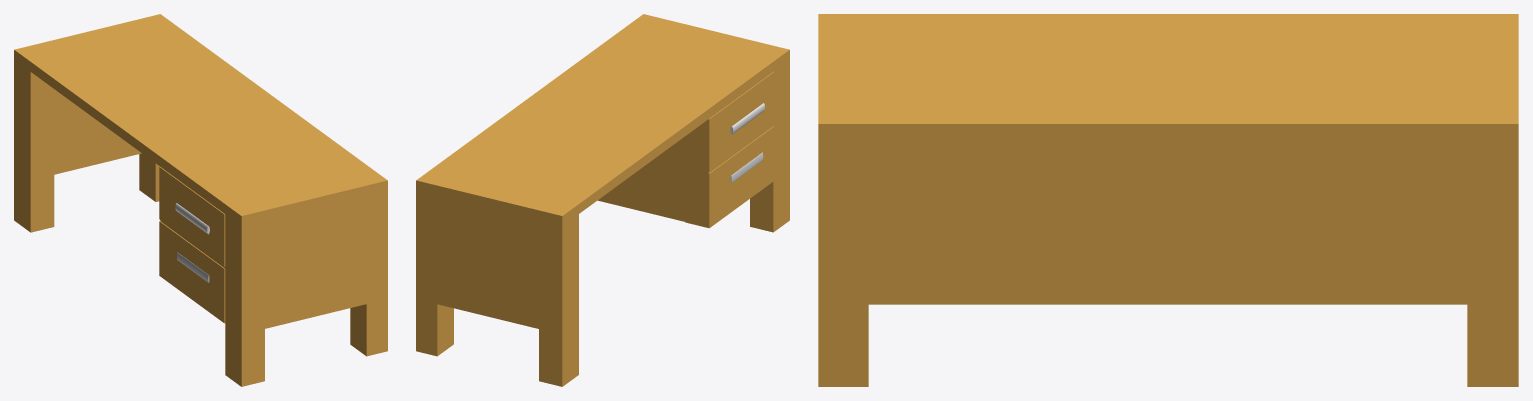
The model's file is KlaudiaKidDesk.fbx.
3 renders of one model, left to right at view 1: azimuth 30°, elevation 25°; view 2: azimuth 150°, elevation 25°; view 3: azimuth 270°, elevation 25°, orthographic. The views are drawn at different scales.
Visible parts, largest first — view 1: Cube; view 2: Cube; view 3: Cube.
Boxes of the visible parts, x1,y1,x2,y2 form: Cube: (14,14,387,386); Cube: (416,14,789,386); Cube: (818,14,1518,386).
Size of the model in its own units: 207 by 223 by 538.
